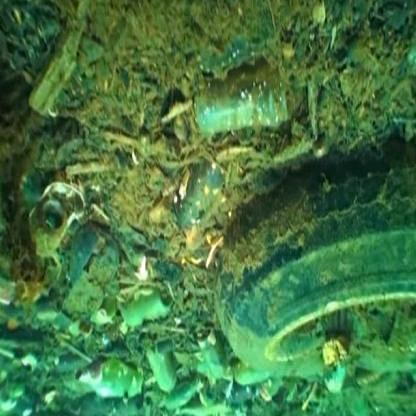gbottle: (68, 345, 165, 414), (210, 17, 284, 98), (187, 70, 279, 134), (177, 314, 248, 388), (98, 281, 192, 334), (139, 330, 201, 410), (184, 140, 237, 226)
tire: (212, 177, 416, 394)
